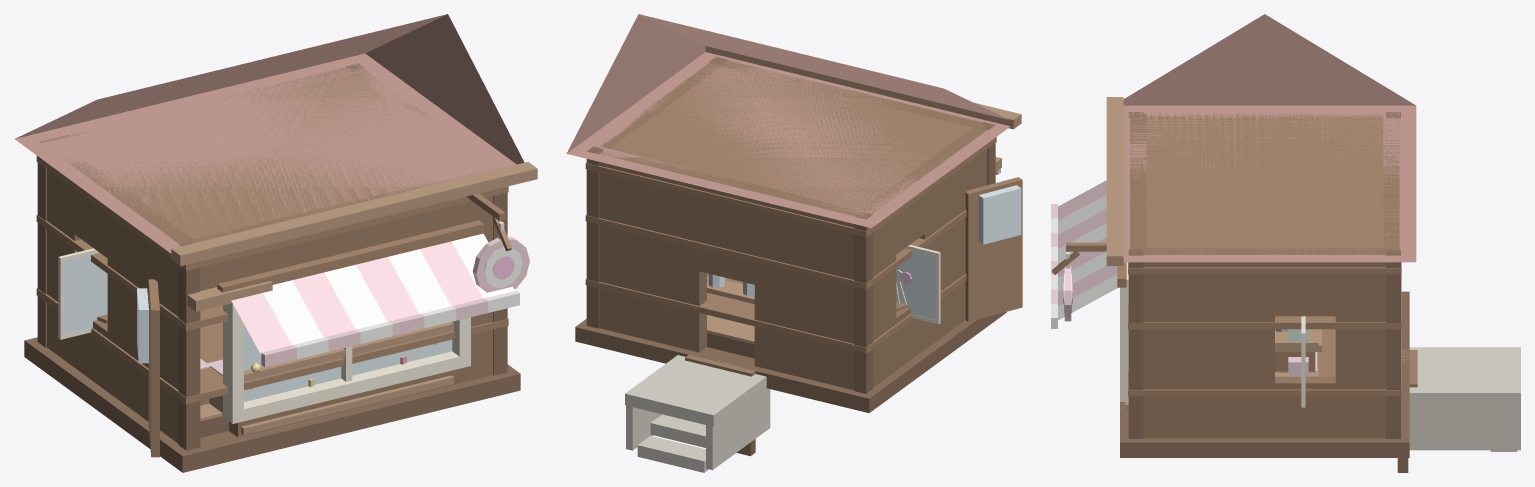
The model's file is obchod_sladkosti.glb.
The picture shows the model from 3 angles, left to right: view 1: azimuth 30°, elevation 25°; view 2: azimuth 150°, elevation 25°; view 3: azimuth 270°, elevation 25°; orthographic projection. The views are drawn at different scales.
Visible parts, largest first — view 1: ObchodSladkosti_roof2, ObchodSladkosti_wood2, ObchodSladkosti_oak, ObchodSladkosti_darkwood, ObchodSladkosti_wood, ObchodSladkosti_pink, ObchodSladkosti_white, ObchodSladkosti_cream, ObchodSladkosti_glass; view 2: ObchodSladkosti_oak, ObchodSladkosti_wood2, ObchodSladkosti_roof2, ObchodSladkosti_darkwood, ObchodSladkosti_stone2, ObchodSladkosti_glass, ObchodSladkosti_wood, ObchodSladkosti_cream; view 3: ObchodSladkosti_oak, ObchodSladkosti_wood2, ObchodSladkosti_roof2, ObchodSladkosti_darkwood, ObchodSladkosti_stone2, ObchodSladkosti_wood, ObchodSladkosti_pink, ObchodSladkosti_white, ObchodSladkosti_cream.
Part boxes in pixels (<box>): ObchodSladkosti_roof2: <box>15,14,524,253</box>; ObchodSladkosti_wood2: <box>36,74,511,457</box>; ObchodSladkosti_oak: <box>40,64,492,443</box>; ObchodSladkosti_darkwood: <box>24,63,520,472</box>; ObchodSladkosti_wood: <box>171,162,537,434</box>; ObchodSladkosti_pink: <box>200,237,529,375</box>; ObchodSladkosti_white: <box>263,233,522,359</box>; ObchodSladkosti_cream: <box>58,221,504,423</box>; ObchodSladkosti_glass: <box>64,255,452,401</box>; ObchodSladkosti_oak: <box>599,58,993,390</box>; ObchodSladkosti_wood2: <box>585,66,1022,376</box>; ObchodSladkosti_roof2: <box>566,14,1010,228</box>; ObchodSladkosti_darkwood: <box>575,57,1006,456</box>; ObchodSladkosti_stone2: <box>625,355,770,472</box>; ObchodSladkosti_glass: <box>708,185,1021,319</box>; ObchodSladkosti_wood: <box>705,46,1021,343</box>; ObchodSladkosti_cream: <box>896,245,940,324</box>; ObchodSladkosti_oak: <box>1130,113,1399,438</box>; ObchodSladkosti_wood2: <box>1052,119,1417,396</box>; ObchodSladkosti_roof2: <box>1123,14,1416,262</box>; ObchodSladkosti_darkwood: <box>1120,112,1409,472</box>; ObchodSladkosti_stone2: <box>1409,347,1520,451</box>; ObchodSladkosti_wood: <box>1106,97,1321,410</box>; ObchodSladkosti_pink: <box>1051,180,1317,376</box>; ObchodSladkosti_white: <box>1051,194,1117,328</box>; ObchodSladkosti_cream: <box>1066,252,1305,407</box>.
Bounding box in the file's own units: 6.14 × 6 × 6.97.
